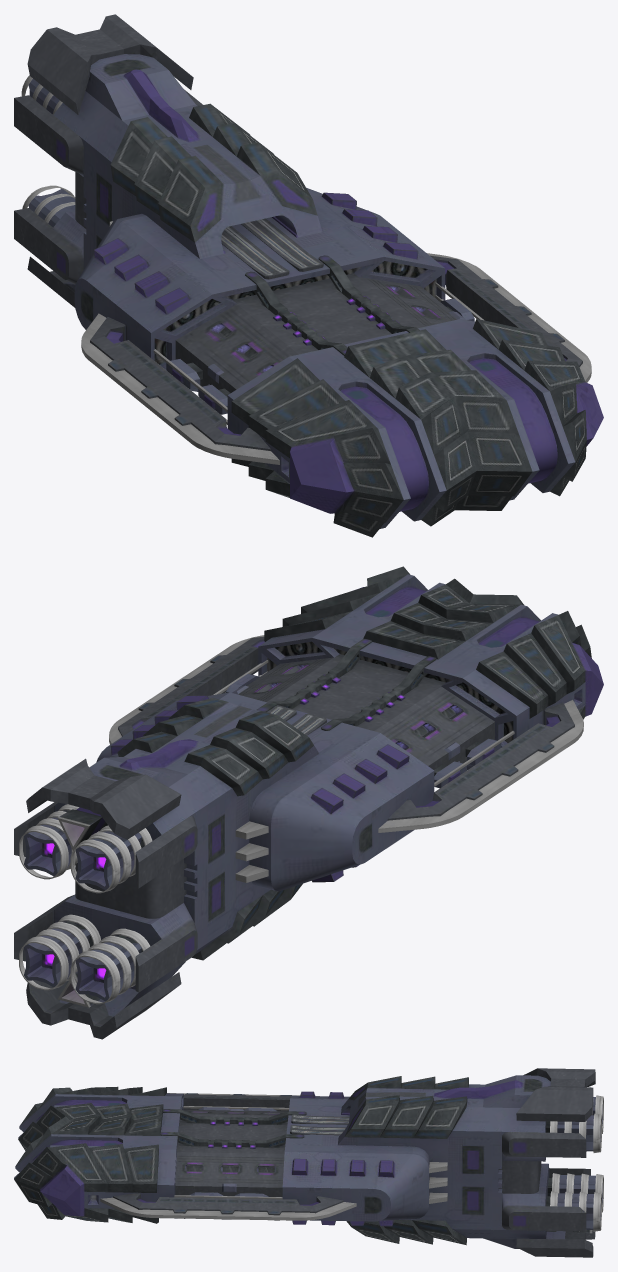
File: watson.glb
3 views of the same model, one above another, from view 1: azimuth 30°, elevation 25°; view 2: azimuth 150°, elevation 25°; view 3: azimuth 270°, elevation 25° (orthographic). The views are drawn at different scales.
Parts seen in each view (by area): view 1: MeshLP, Cylinder.001; view 2: MeshLP, Cylinder.001; view 3: MeshLP, Cylinder.001.
Boxes of the visible parts, x1,y1,x2,y2 form: MeshLP: [14, 14, 603, 537]; Cylinder.001: [21, 75, 75, 223]; MeshLP: [14, 566, 603, 1039]; Cylinder.001: [19, 804, 152, 1004]; MeshLP: [14, 1068, 602, 1257]; Cylinder.001: [550, 1095, 603, 1231].
Size of the model in its own units: 8.17 by 5.1 by 16.33.
Materials: 2 (2 with a texture image).
